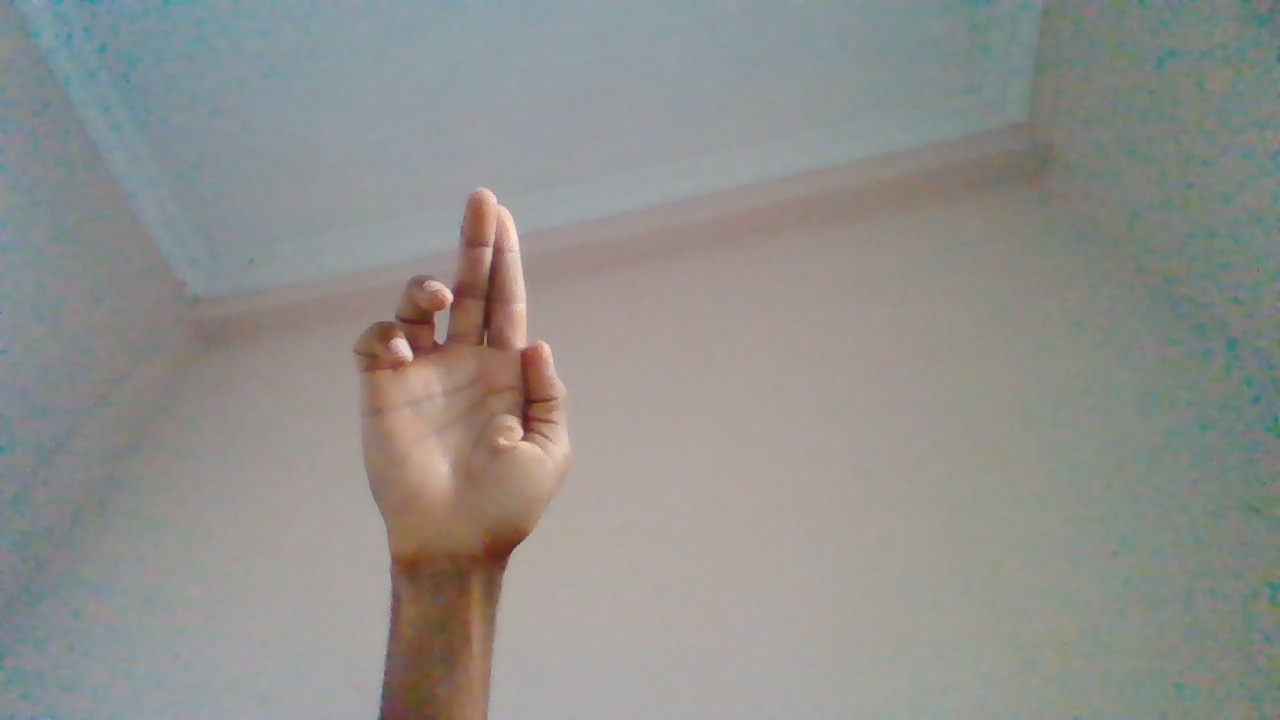gne: (350, 180, 585, 650)
